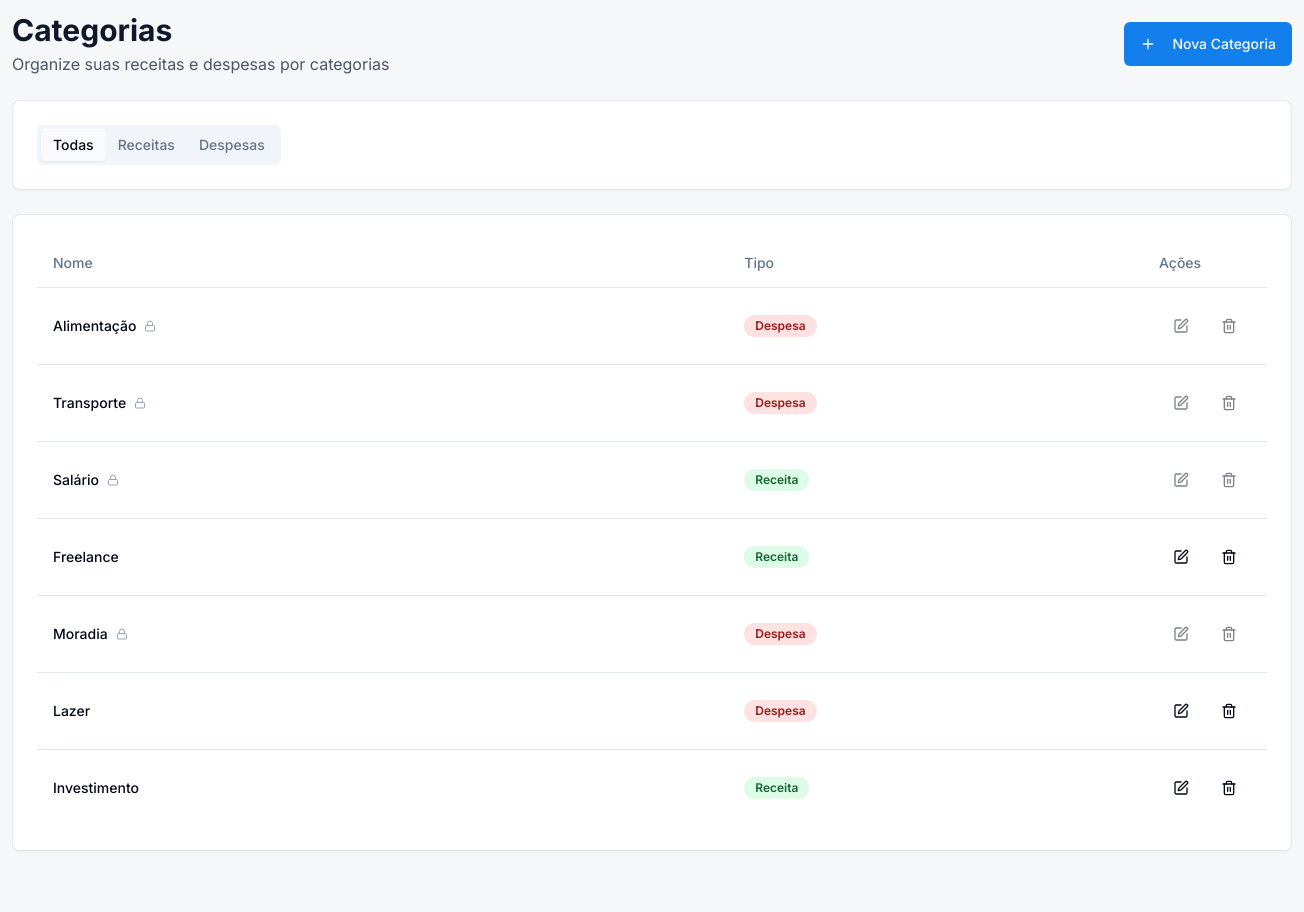
CategoriesPage › filters categories by type when filter is changed
Expected: the text "Alimentação" is shown, left=53, top=316, right=156, bottom=334
// Filtrar por Receitas
Click the tab "Receitas".
click(146, 145)  # box left=106, top=129, right=187, bottom=161
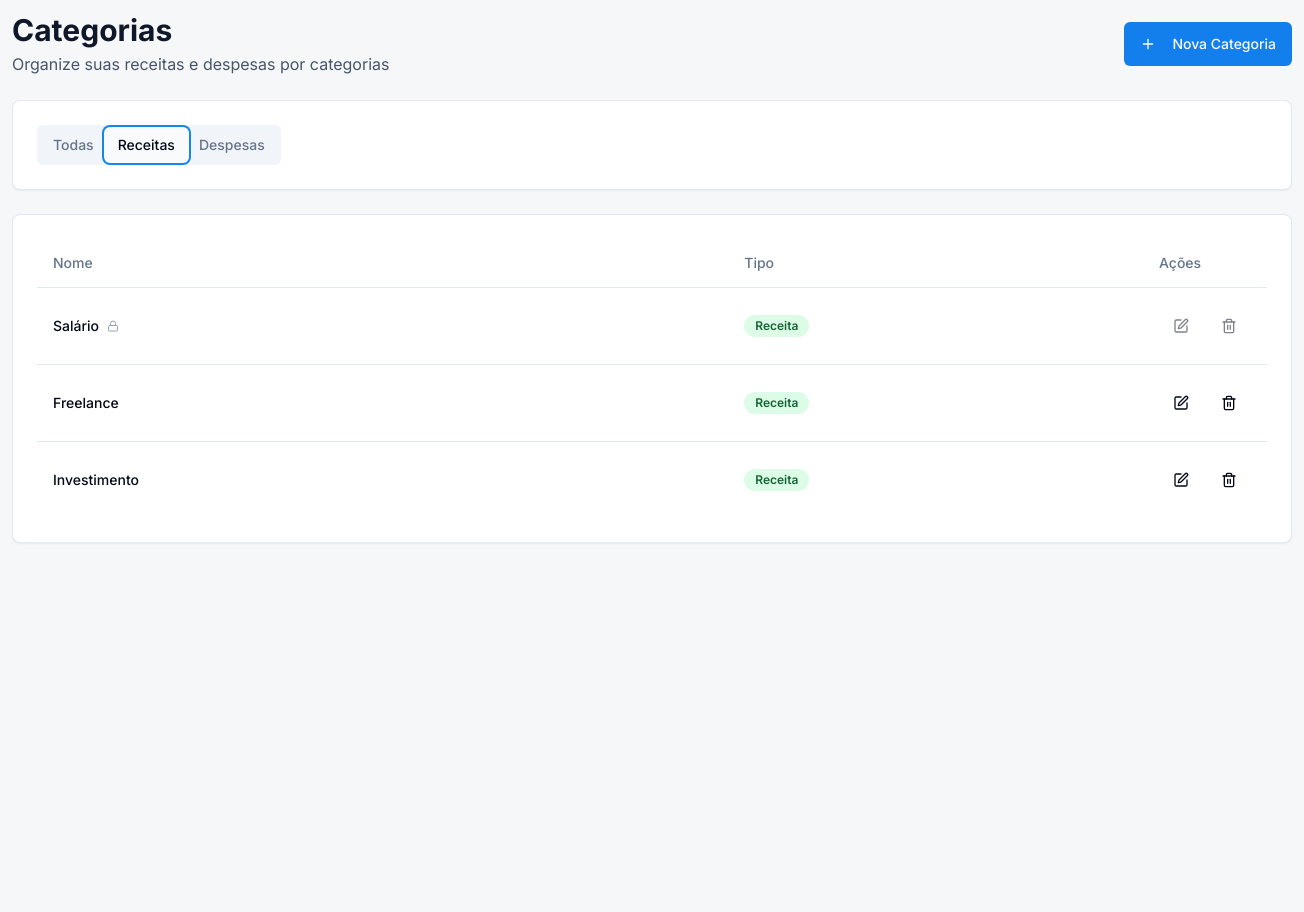
Expected: the text "Salário" is shown, left=53, top=316, right=119, bottom=334
Expected: the text "Alimentação" is gone
